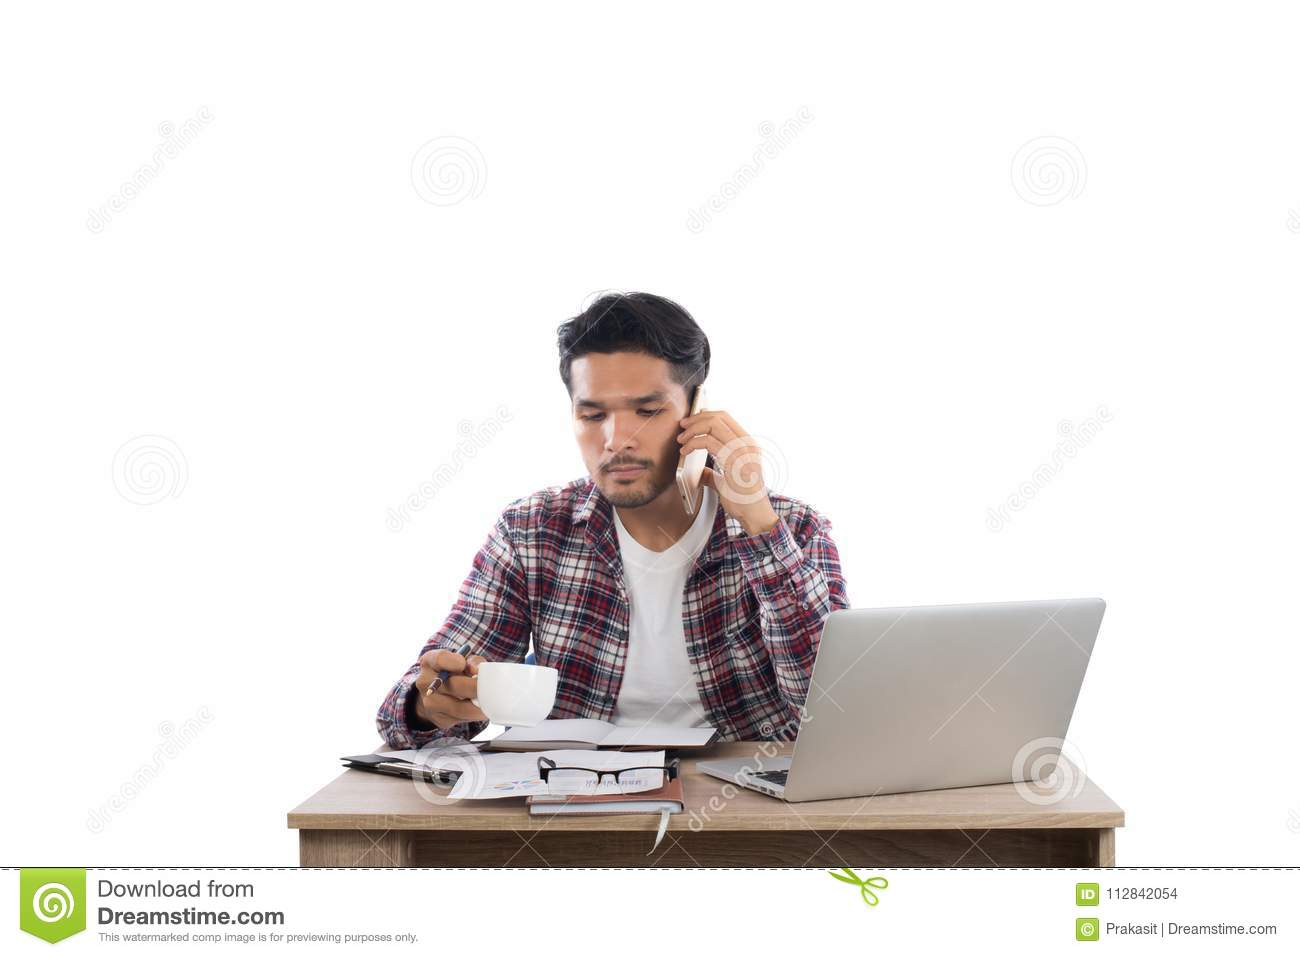phone: (675, 387, 715, 519)
talk: (578, 381, 765, 534)
